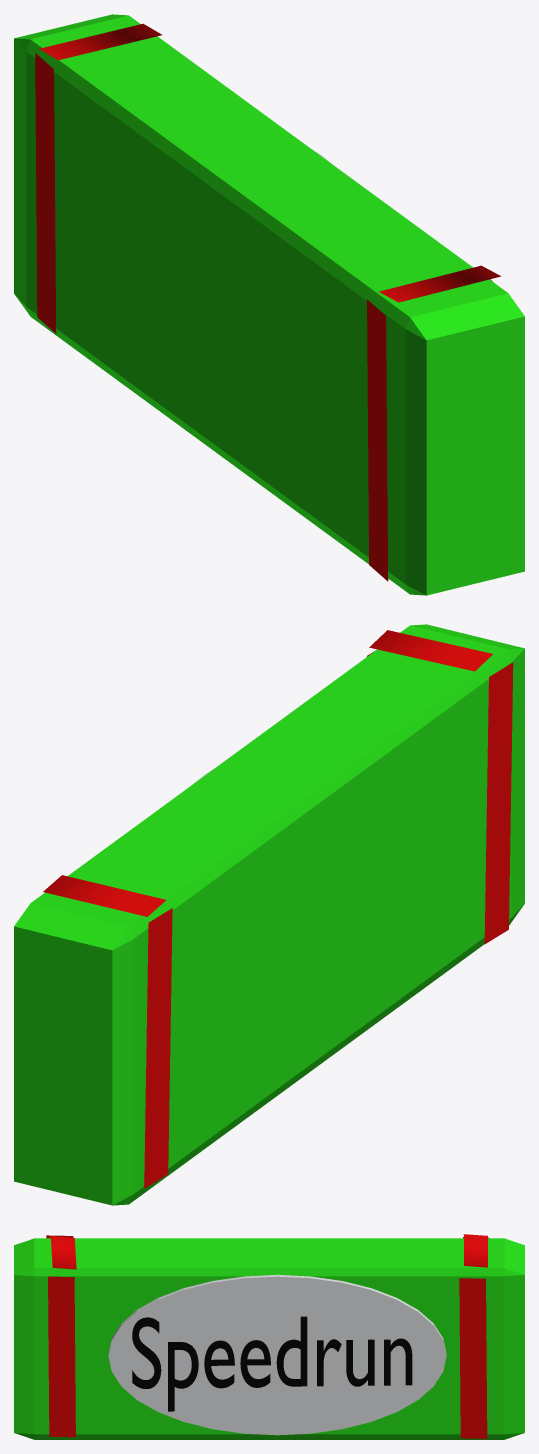
Rendered from ChocolateBar3.fbx.
3 renders of one model, top to bottom at view 1: azimuth 30°, elevation 25°; view 2: azimuth 150°, elevation 25°; view 3: azimuth 270°, elevation 25°, orthographic. The views are drawn at different scales.
Parts seen in each view (by area): view 1: Cube; view 2: Cube; view 3: Cube.
Part boxes in pixels (x1,y1,x2,y2): Cube: (14, 14, 524, 595); Cube: (14, 624, 524, 1205); Cube: (14, 1234, 524, 1439).
Bounding box in the file's own units: 118 × 219 × 581.
